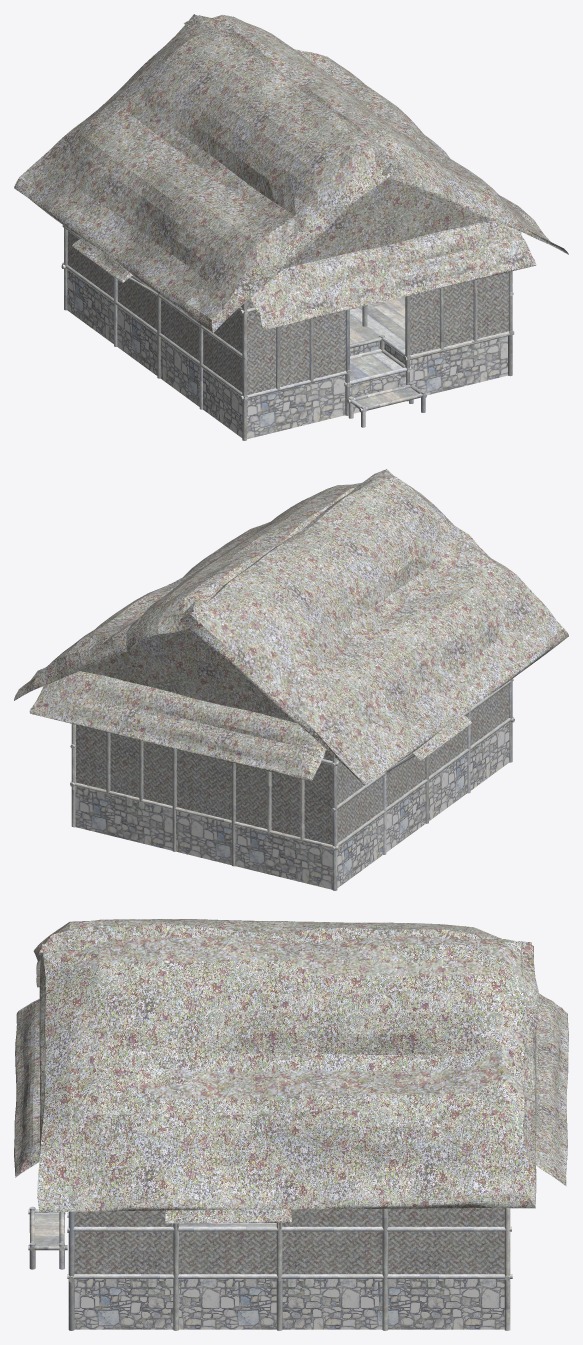
The picture shows the model from 3 angles, top to bottom: view 1: azimuth 30°, elevation 25°; view 2: azimuth 150°, elevation 25°; view 3: azimuth 270°, elevation 25°; orthographic projection. The views are drawn at different scales.
Parts seen in each view (by area): view 1: Meshpart3, Meshpart6, Meshpart4, Part89, Part80, Part79, Part139, Part138, Part71, Part70, Wedge3, Part88 (+11 smaller); view 2: Meshpart3, Meshpart1, Part13, Part8, Meshpart4, Part89, Part71, Part70, Wedge4, Part88, Wedge1, Part87 (+6 smaller); view 3: Meshpart4, Part88, Part96, Part91, Meshpart3, Meshpart1, Meshpart6, Part32, Part31, Part98, Part99, Meshpart5 (+8 smaller).
Boxes of the visible parts, x1,y1,x2,y2 form: Meshpart3: [14, 14, 402, 332]; Meshpart6: [250, 220, 536, 329]; Meshpart4: [184, 14, 568, 254]; Part89: [67, 269, 345, 439]; Part80: [247, 310, 345, 395]; Part79: [247, 311, 345, 394]; Part139: [410, 272, 508, 355]; Part138: [410, 272, 508, 355]; Part71: [67, 231, 242, 392]; Part70: [67, 231, 242, 391]; Wedge3: [374, 177, 491, 248]; Part88: [384, 336, 507, 395]; Meshpart3: [180, 469, 568, 786]; Meshpart1: [29, 671, 326, 781]; Part13: [75, 725, 332, 844]; Part8: [76, 725, 332, 844]; Meshpart4: [14, 483, 361, 700]; Part89: [235, 722, 509, 889]; Part71: [337, 684, 509, 843]; Part70: [337, 684, 508, 842]; Wedge4: [81, 628, 198, 699]; Part88: [75, 786, 172, 850]; Wedge1: [197, 635, 296, 722]; Part87: [176, 810, 231, 864]; Meshpart4: [37, 935, 539, 1211]; Part88: [74, 1279, 504, 1329]; Part96: [74, 1231, 504, 1274]; Part91: [74, 1231, 504, 1273]; Meshpart3: [33, 919, 533, 987]; Meshpart1: [534, 993, 568, 1185]; Meshpart6: [14, 999, 40, 1177]; Part32: [282, 1208, 504, 1226]; Part31: [282, 1208, 504, 1226]; Part98: [67, 1226, 511, 1231]; Part99: [67, 1274, 512, 1278]; Meshpart5: [165, 1209, 291, 1223].
Bounding box in the file's own units: 29.78 × 20.48 × 31.76.
6 materials, 6 textured.
